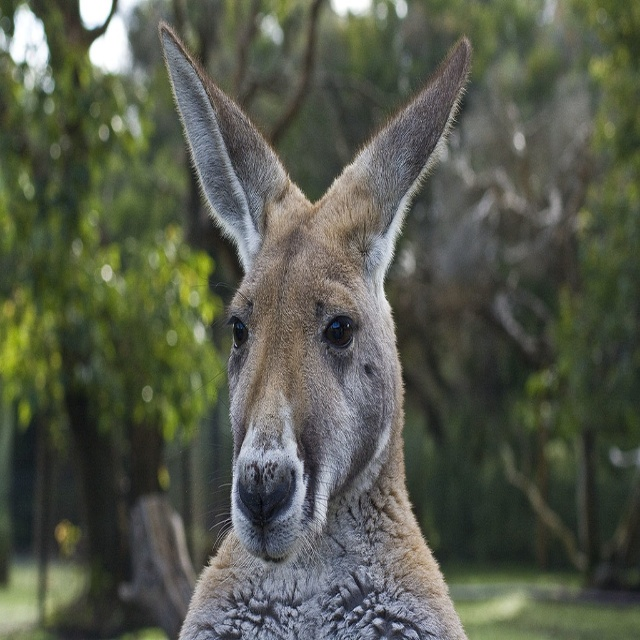Kangaroo: (158, 22, 472, 639)
